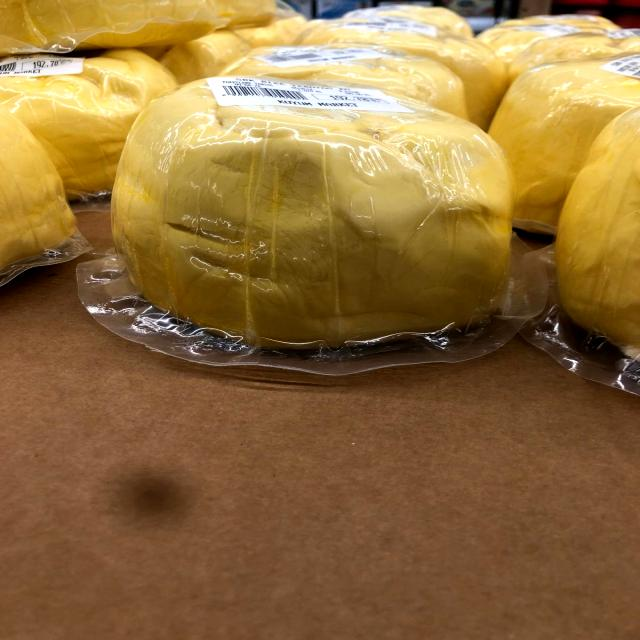cheese: (81, 59, 552, 364)
